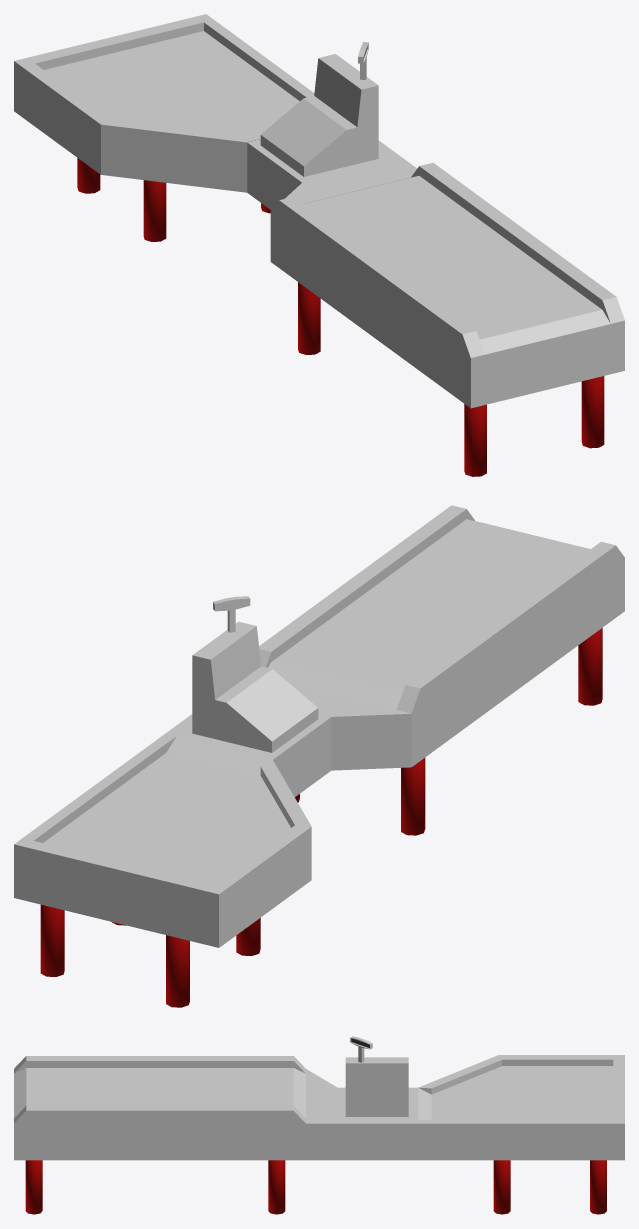
Rendered from CheckOut.fbx.
3 views of the same model, one above another, from view 1: azimuth 30°, elevation 25°; view 2: azimuth 150°, elevation 25°; view 3: azimuth 270°, elevation 25° (orthographic). The views are drawn at different scales.
Visible parts, largest first — view 1: CheckOut; view 2: CheckOut; view 3: CheckOut.
Boxes of the visible parts, x1,y1,x2,y2 form: CheckOut: (14, 14, 624, 476); CheckOut: (14, 505, 624, 1007); CheckOut: (14, 1036, 624, 1214).
Bounding box in the file's own units: 151 × 174 × 570.
